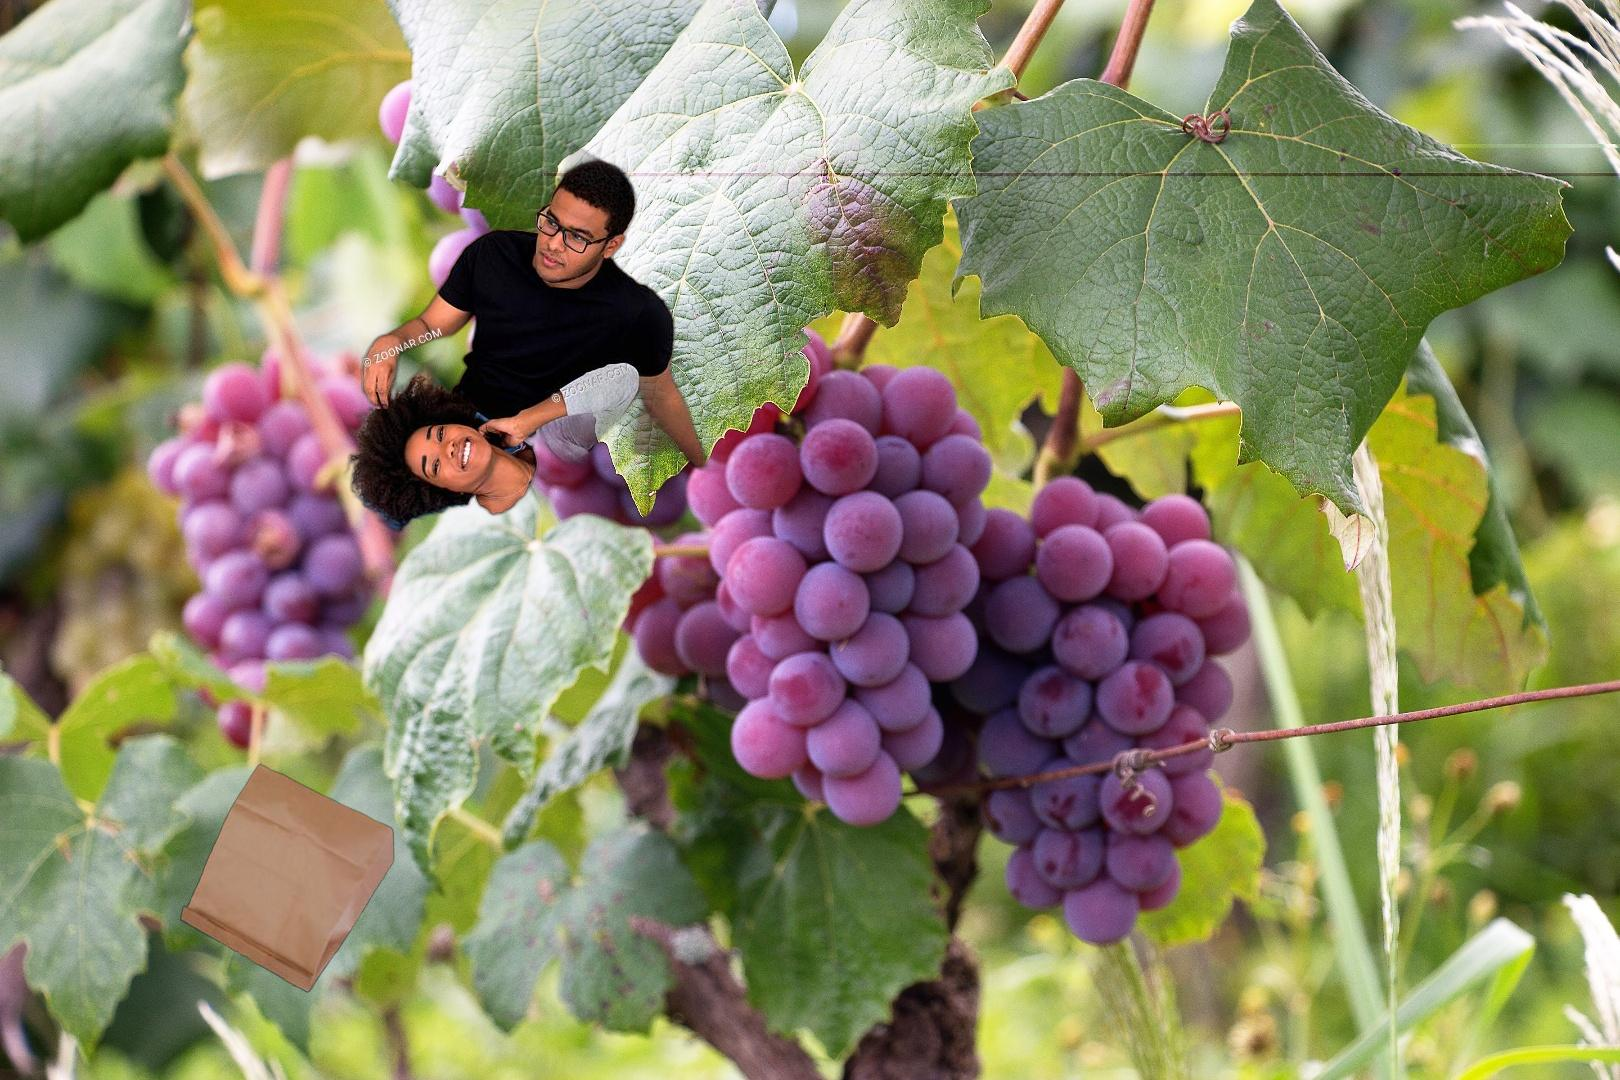paper-bag: (177, 749, 397, 994)
trashbox-cardboard: (340, 133, 722, 536)
